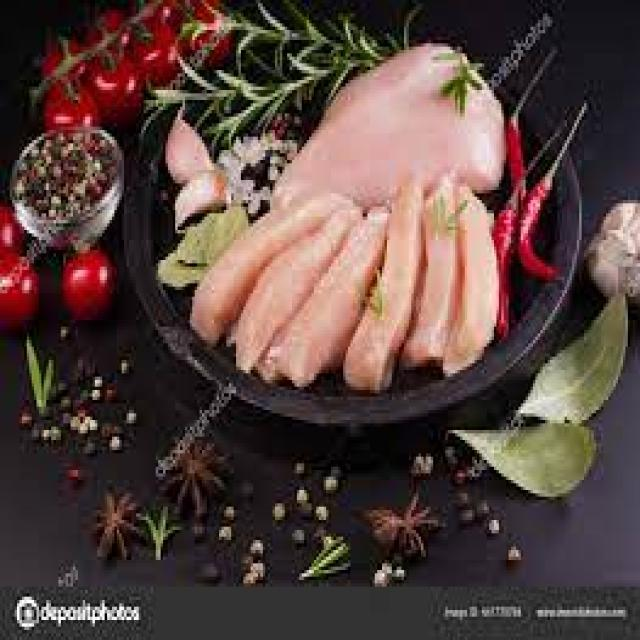Chicken: (264, 53, 512, 188), (271, 220, 385, 370), (189, 198, 340, 304), (236, 205, 346, 349), (344, 190, 423, 373), (441, 196, 489, 377), (404, 182, 455, 335)
